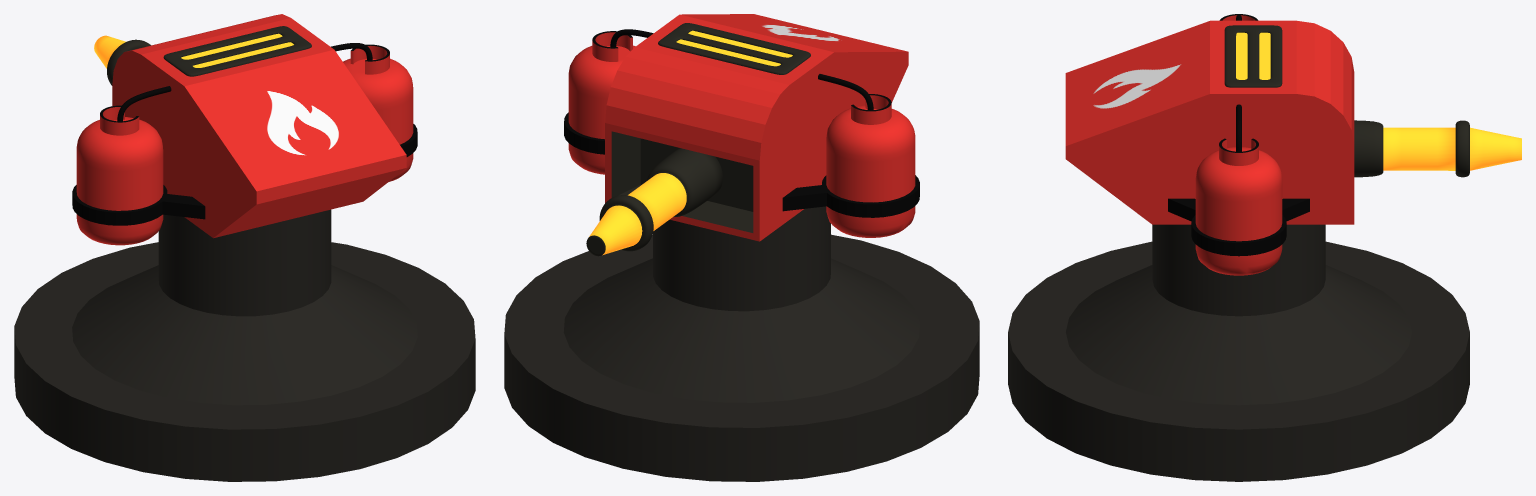
The model's file is flamethrower_L1.fbx.
3 renders of one model, left to right at view 1: azimuth 30°, elevation 25°; view 2: azimuth 150°, elevation 25°; view 3: azimuth 270°, elevation 25°, orthographic. The views are drawn at different scales.
Visible parts, largest first — view 1: Circle, Plane, Circle.002, Plane.001, barrel, Plane.002, NurbsCurve; view 2: Circle, Plane, Circle.002, barrel, Plane.001, Plane.002, NurbsCurve; view 3: Circle, Plane, Circle.002, barrel, Plane.001, Plane.002.
Boxes of the visible parts, x1=… form: Circle: x1=14, y1=209, x2=475, y2=481; Plane: x1=112, y1=14, x2=406, y2=238; Circle.002: x1=72, y1=44, x2=417, y2=245; Plane.001: x1=163, y1=26, x2=311, y2=76; barrel: x1=94, y1=35, x2=150, y2=85; Plane.002: x1=181, y1=33, x2=293, y2=67; NurbsCurve: x1=117, y1=43, x2=372, y2=121; Circle: x1=504, y1=206, x2=979, y2=481; Plane: x1=605, y1=14, x2=908, y2=241; Circle.002: x1=564, y1=31, x2=919, y2=237; barrel: x1=586, y1=148, x2=722, y2=256; Plane.001: x1=658, y1=23, x2=810, y2=74; Plane.002: x1=676, y1=30, x2=792, y2=66; NurbsCurve: x1=610, y1=29, x2=873, y2=110; Circle: x1=1008, y1=224, x2=1469, y2=481; Plane: x1=1065, y1=20, x2=1354, y2=224; Circle.002: x1=1168, y1=14, x2=1309, y2=275; barrel: x1=1354, y1=120, x2=1521, y2=177; Plane.001: x1=1224, y1=25, x2=1282, y2=87; Plane.002: x1=1236, y1=32, x2=1270, y2=79.
Bounding box in the file's own units: 160 × 126 × 178.
Materials: 6 (1 with a texture image).
